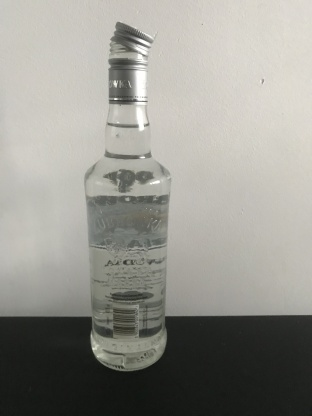nakretka: (106, 19, 155, 107)
